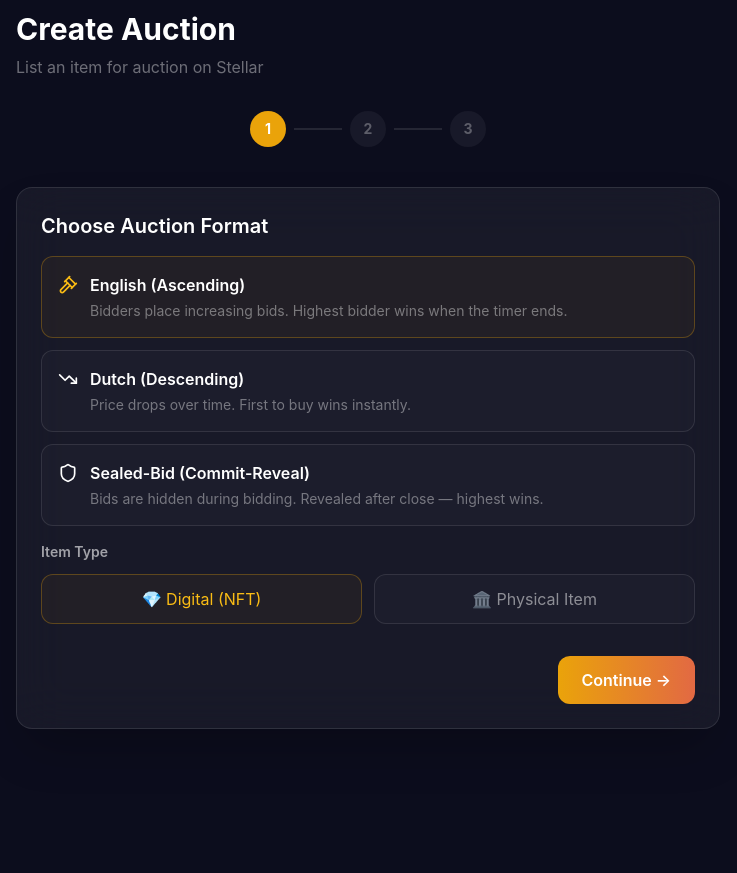
Test: CreateAuctionPage › step 2 shows Dutch fields when Dutch format selected
// Select Dutch format first
What coordinates should you click on to do the following:
click the text "Dutch (Descending)"
I would click on:
 (167, 379)
Its box is [90, 369, 244, 389].
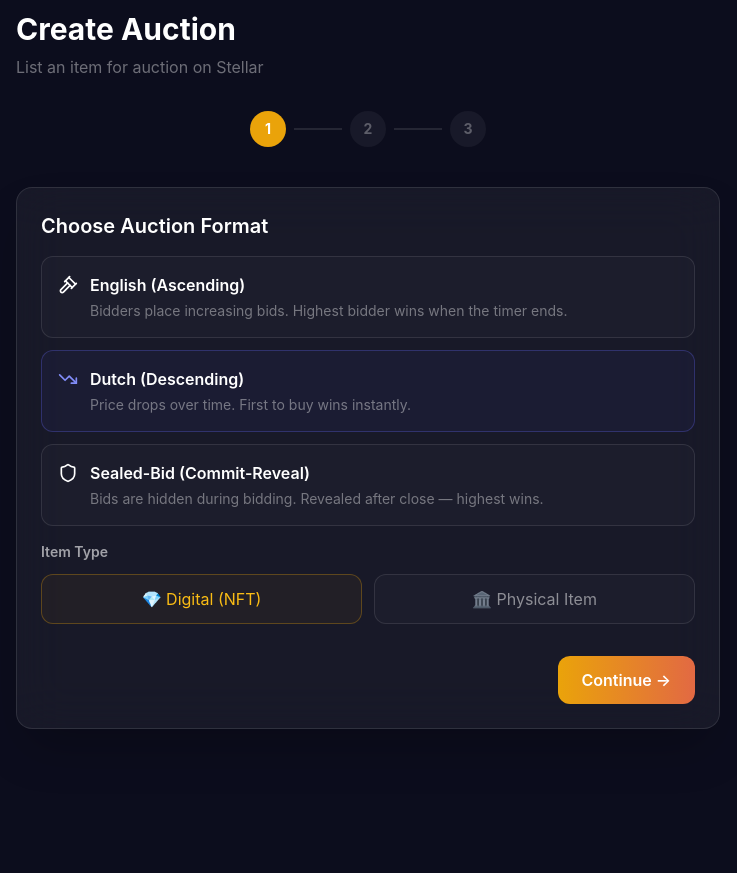
What coordinates should you click on to do the following:
click the button "Continue →"
I would click on:
 (626, 680)
Its box is [558, 656, 695, 704].
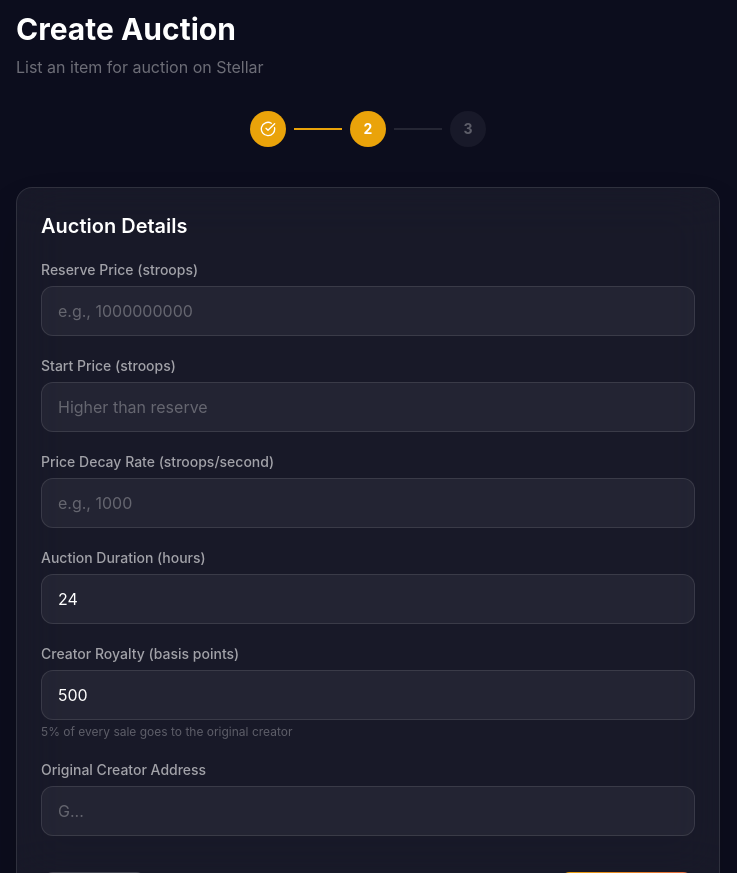
expect the text "Start Price (stroops)" is shown: met, box [41, 357, 176, 374]
expect the text "Price Decay Rate (stroops/second)" is shown: met, box [41, 453, 274, 470]
